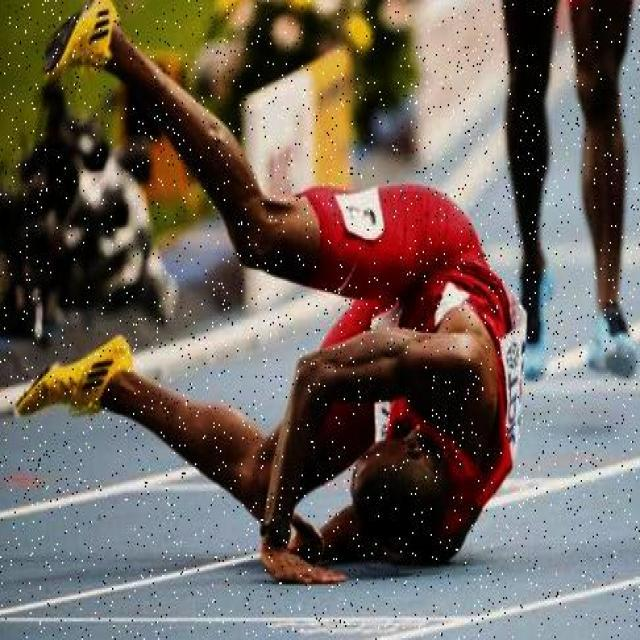fall: (141, 152, 519, 568)
